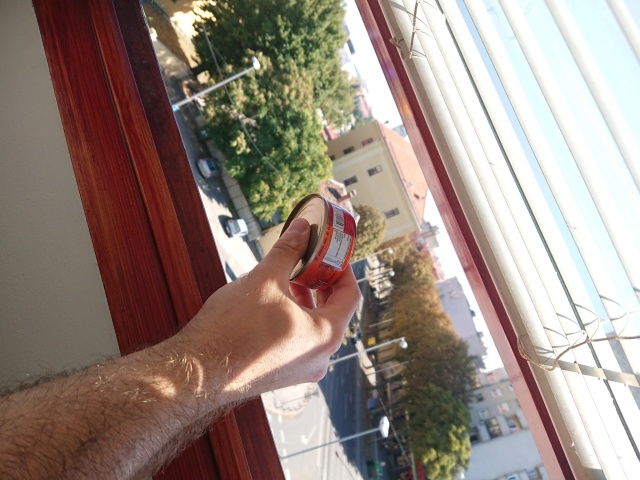Gavrilovic Pork Liver Pate 100g: (274, 191, 358, 292)
